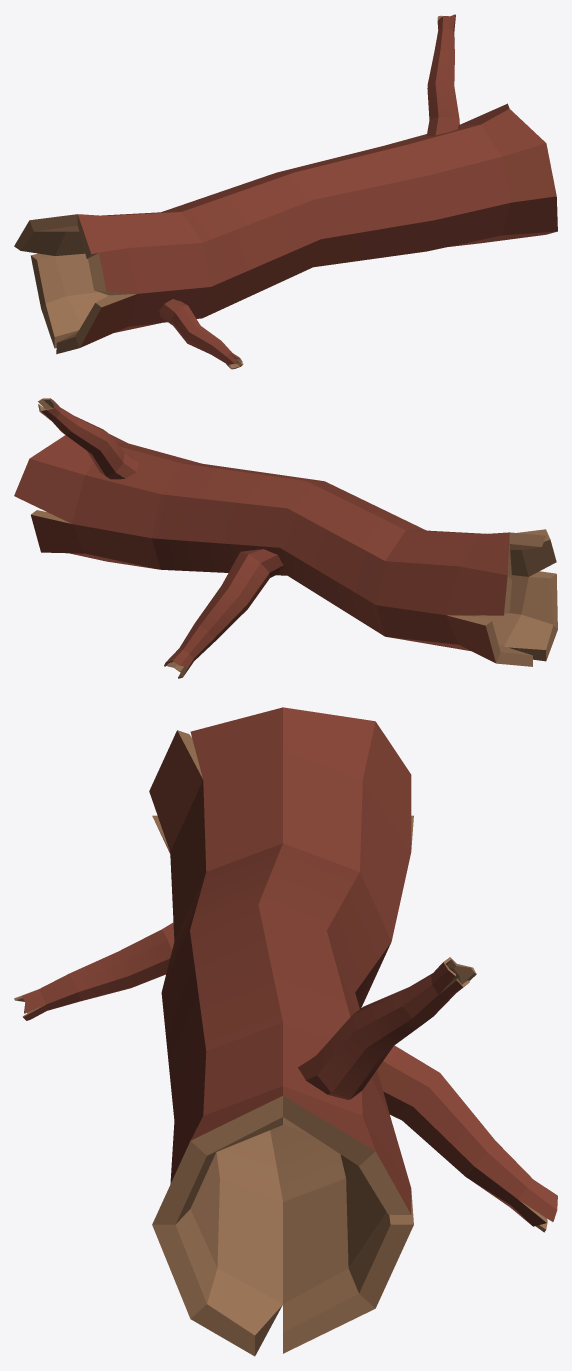
The model's file is obj_low_log.fbx.
3 renders of one model, top to bottom at view 1: azimuth 30°, elevation 25°; view 2: azimuth 150°, elevation 25°; view 3: azimuth 270°, elevation 25°, orthographic. The views are drawn at different scales.
Visible parts, largest first — view 1: msh_log; view 2: msh_log; view 3: msh_log.
Boxes of the visible parts, x1,y1,x2,y2 form: msh_log: (14,14,557,369); msh_log: (14,398,557,678); msh_log: (14,707,557,1356).
Size of the model in its own units: 42.25 by 18.38 by 22.06.
